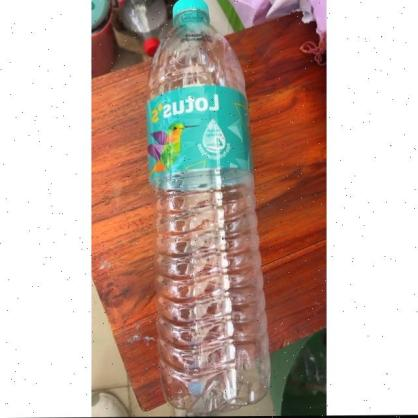bottle: (144, 0, 272, 417)
cap: (170, 0, 212, 24)
label: (148, 86, 254, 184)
